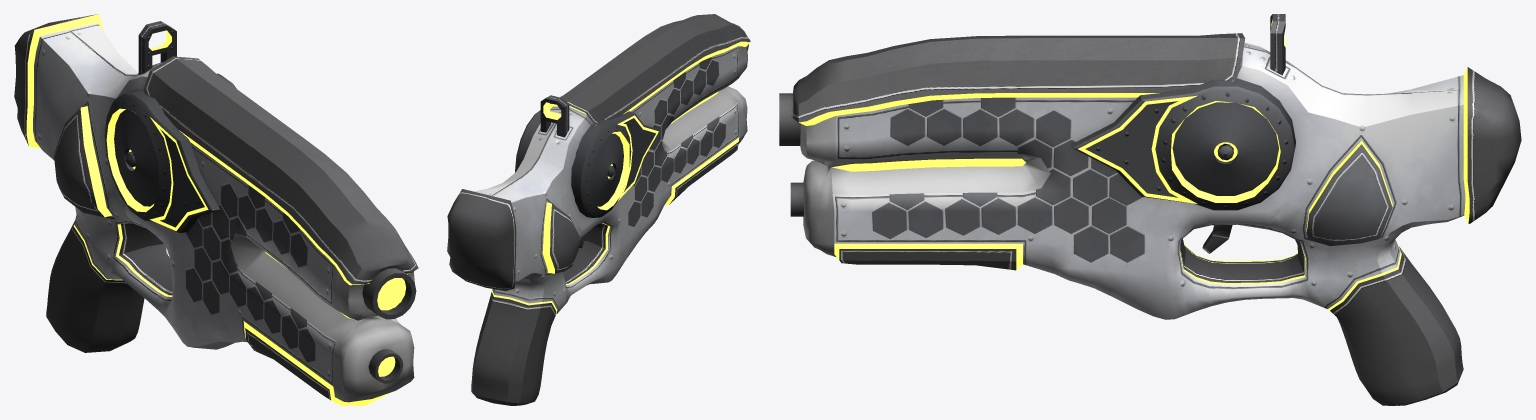
The model's file is scifiBlaster.glb.
The picture shows the model from 3 angles, left to right: view 1: azimuth 30°, elevation 25°; view 2: azimuth 150°, elevation 25°; view 3: azimuth 270°, elevation 25°; orthographic projection. The views are drawn at different scales.
Visible parts, largest first — view 1: Plane; view 2: Plane; view 3: Plane.
Part boxes in pixels (bbox=[...]): Plane: bbox=[14, 14, 418, 405]; Plane: bbox=[447, 14, 750, 405]; Plane: bbox=[779, 14, 1521, 405].
Bounding box in the file's own units: 0.1323 × 0.3833 × 0.677.
Materials: 3 (2 with a texture image).
